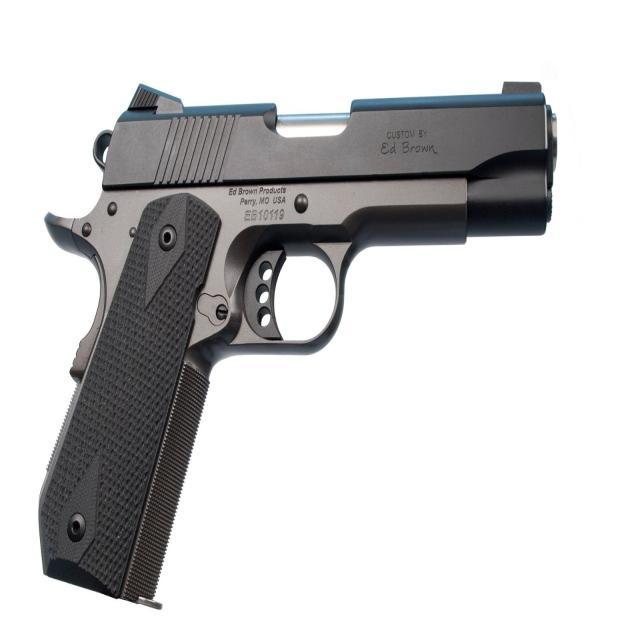Pistol: (19, 28, 567, 635)
